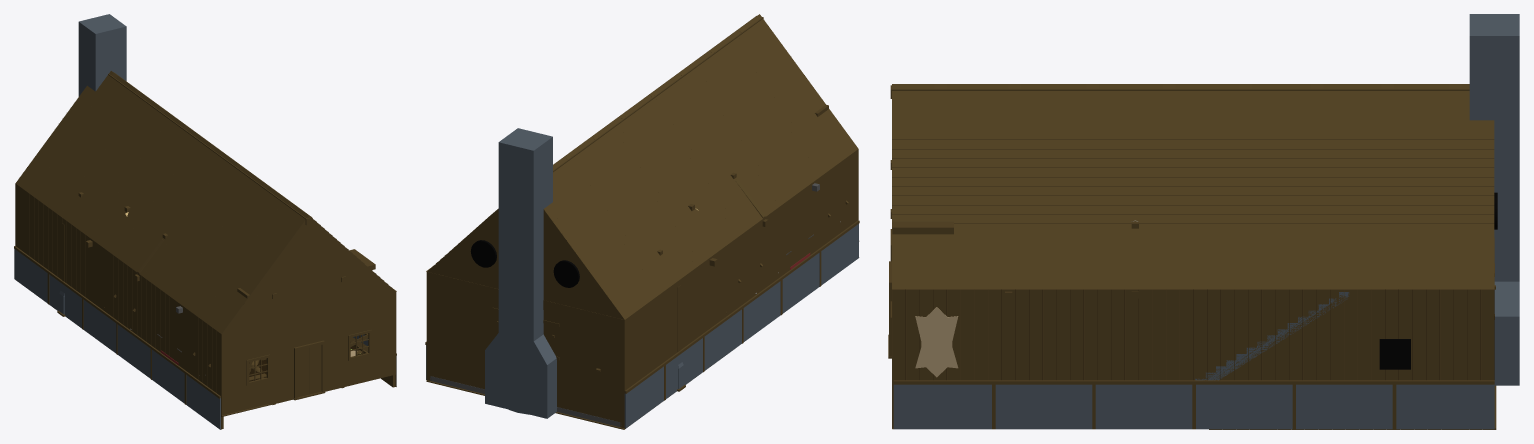
Rendered from Cabin_Blockout_05.fbx.
3 views of the same model, side by side, from view 1: azimuth 30°, elevation 25°; view 2: azimuth 150°, elevation 25°; view 3: azimuth 270°, elevation 25° (orthographic). The views are drawn at different scales.
Parts seen in each view (by area): view 1: polySurface891; view 2: polySurface891; view 3: polySurface891.
Boxes of the visible parts, x1,y1,x2,y2 form: polySurface891: [14, 14, 396, 429]; polySurface891: [425, 14, 859, 429]; polySurface891: [888, 14, 1519, 429].
Bounding box in the file's own units: 889 × 1111 × 1844.
